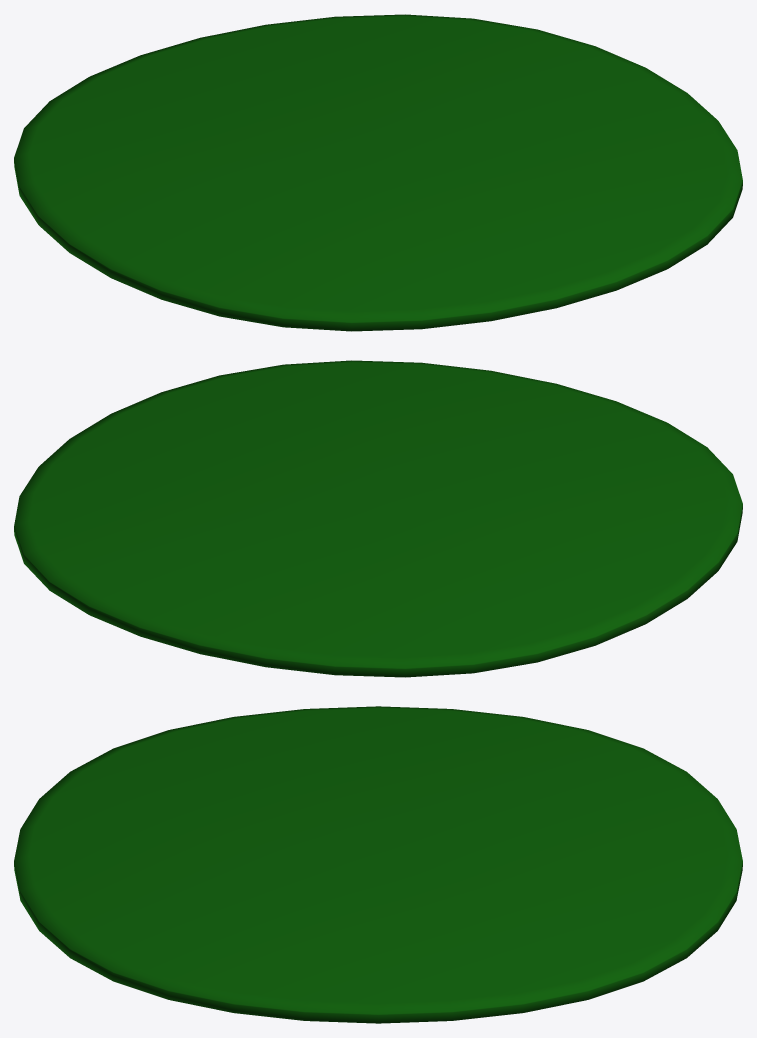
The model's file is Placemate.fbx.
3 renders of one model, top to bottom at view 1: azimuth 30°, elevation 25°; view 2: azimuth 150°, elevation 25°; view 3: azimuth 270°, elevation 25°, orthographic. The views are drawn at different scales.
Visible parts, largest first — view 1: Placemate; view 2: Placemate; view 3: Placemate.
Boxes of the visible parts, x1,y1,x2,y2 form: Placemate: [14, 14, 742, 331]; Placemate: [14, 360, 742, 677]; Placemate: [14, 706, 742, 1023].
Size of the model in its own units: 55 by 1.35 by 55.
